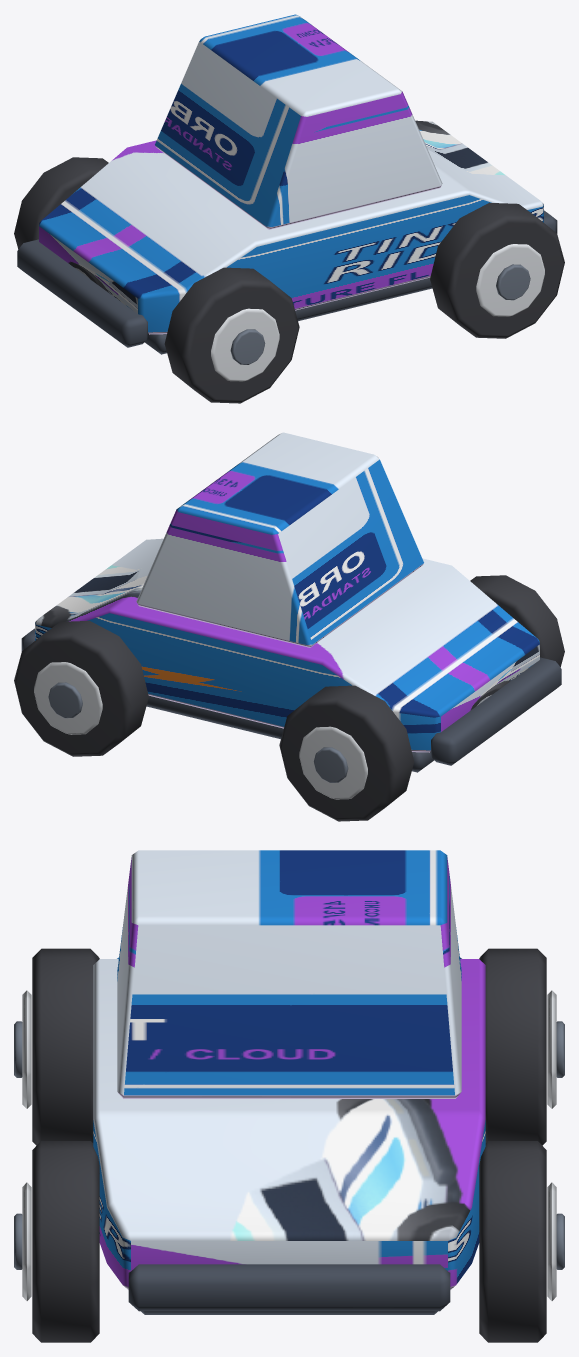
The picture shows the model from 3 angles, top to bottom: view 1: azimuth 30°, elevation 25°; view 2: azimuth 150°, elevation 25°; view 3: azimuth 270°, elevation 25°; orthographic projection. The views are drawn at different scales.
Visible parts, largest first — view 1: FF-02_connected_shell, FF-02_cabin, Tire.002, Tire, front bumper, Tire.001, Rim, Rim.002, underbody, Hub.002, Hub; view 2: FF-02_connected_shell, FF-02_cabin, Tire.003, Tire.001, front bumper, Tire, Rim.001, Rim.003, underbody, Hub.003, Hub.001; view 3: FF-02_cabin, FF-02_connected_shell, rear bumper, Tire.002, Tire.003, Tire, Tire.001, underbody, Rim, Rim.001, Rim.002, Rim.003.
Part boxes in pixels (box(x1,y1,x2,y2)): FF-02_connected_shell: box(39, 120, 543, 334); FF-02_cabin: box(155, 14, 442, 229); Tire.002: box(430, 202, 564, 338); Tire: box(164, 267, 299, 403); front bumper: box(17, 239, 148, 347); Tire.001: box(14, 157, 108, 248); Rim: box(211, 308, 279, 381); Rim.002: box(476, 244, 544, 316); underbody: box(144, 277, 432, 354); Hub.002: box(496, 264, 530, 300); Hub: box(230, 329, 265, 364); FF-02_connected_shell: box(35, 538, 539, 752); FF-02_cabin: box(136, 432, 423, 647); Tire.003: box(14, 620, 148, 756); Tire.001: box(279, 685, 414, 821); front bumper: box(430, 657, 561, 765); Tire: box(470, 575, 564, 666); Rim.001: box(299, 726, 367, 799); Rim.003: box(34, 662, 102, 734); underbody: box(146, 695, 434, 772); Hub.003: box(48, 682, 82, 718); Hub.001: box(313, 747, 348, 782); FF-02_cabin: box(117, 850, 461, 1098); FF-02_connected_shell: box(93, 957, 485, 1289); rear bumper: box(128, 1264, 450, 1311); Tire.002: box(32, 1141, 99, 1342); Tire.003: box(479, 1141, 546, 1342); Tire: box(32, 948, 99, 1145); Tire.001: box(479, 948, 546, 1145); underbody: box(141, 1311, 437, 1314); Rim: box(22, 990, 31, 1108); Rim.001: box(547, 990, 556, 1108); Rim.002: box(22, 1182, 31, 1300); Rim.003: box(547, 1182, 556, 1300).
Bounding box in the file's own units: 288 × 154 × 212.
